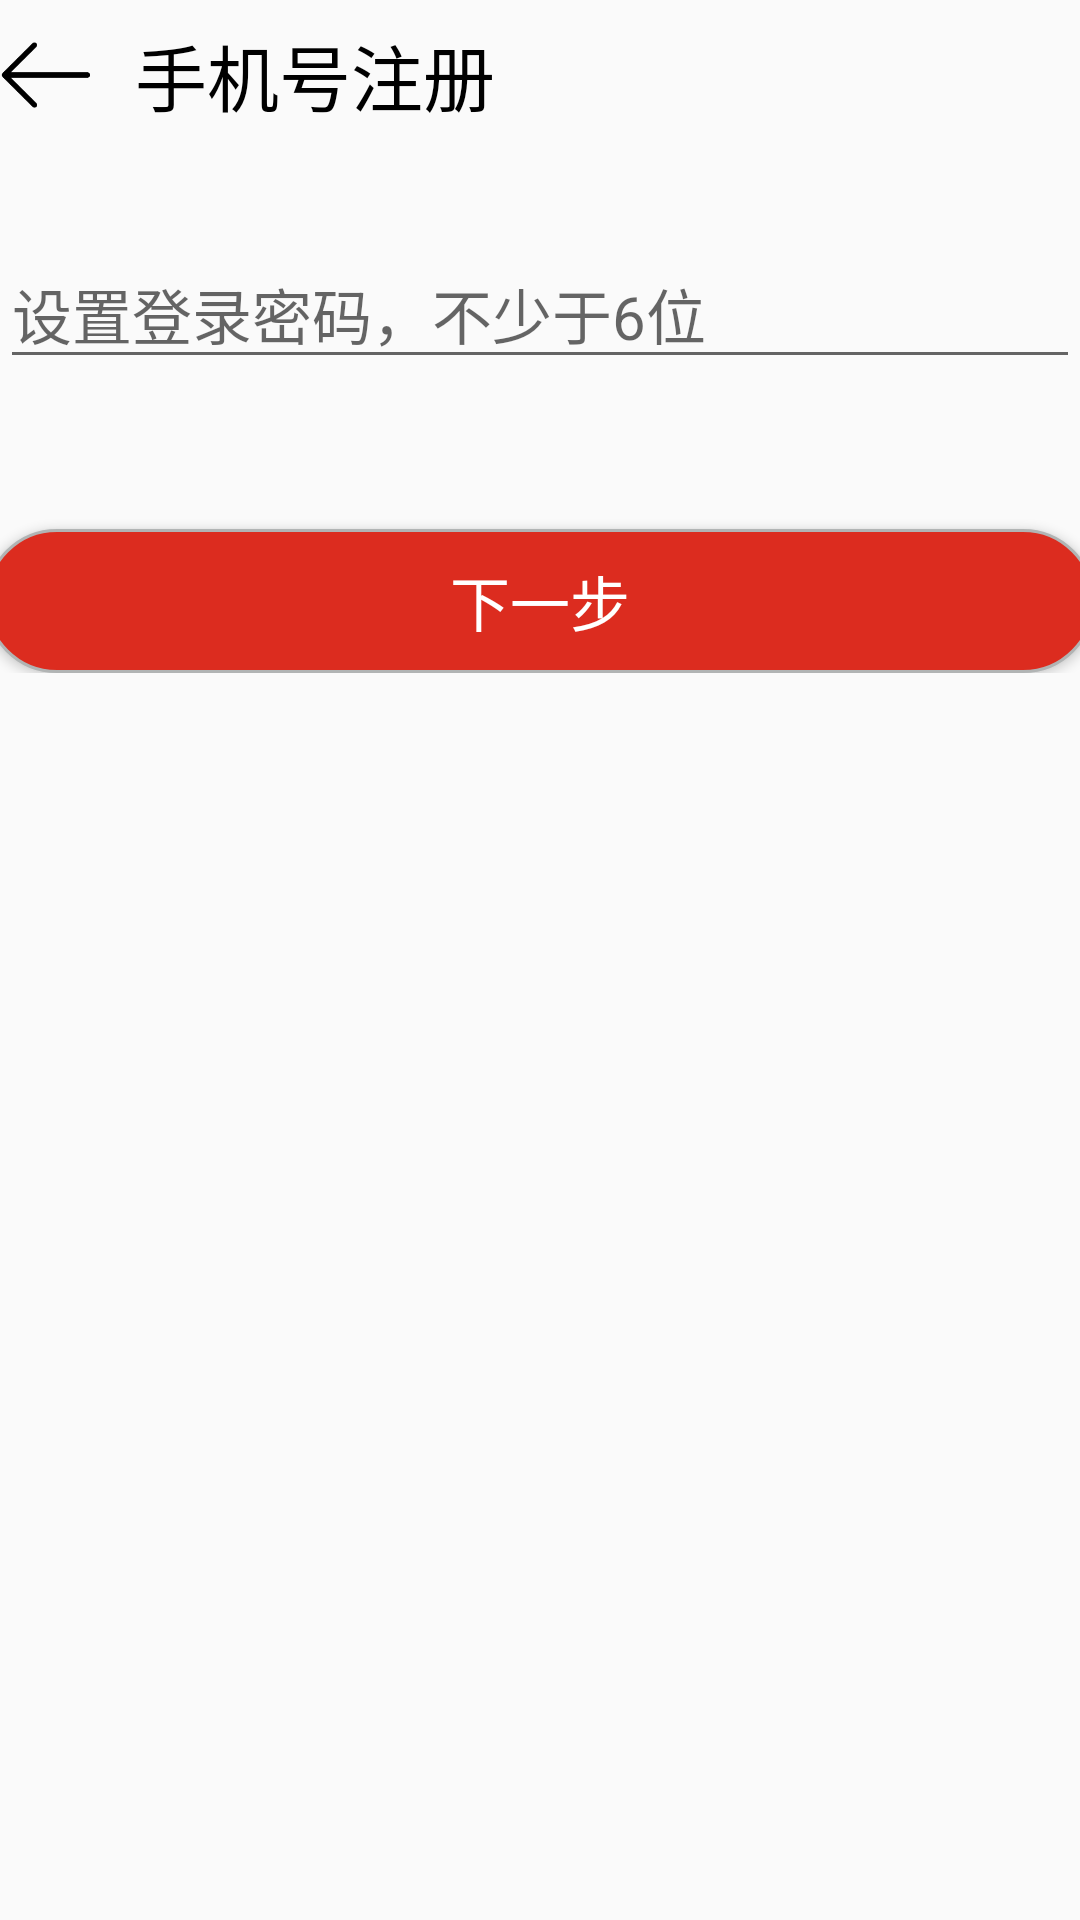

Where icons sit on this 1080 x 1920 app screen, as rect(x1, y1, x2, y2):
fanhui: rect(1, 42, 90, 108)
